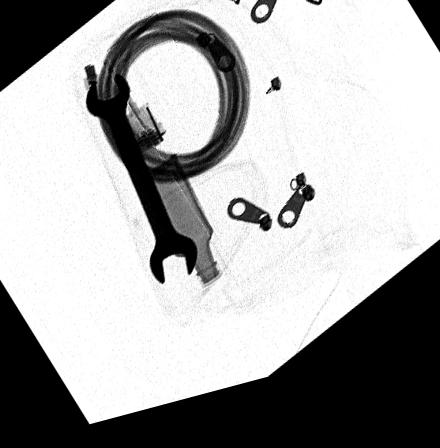Wrench: (84, 78, 198, 295)
